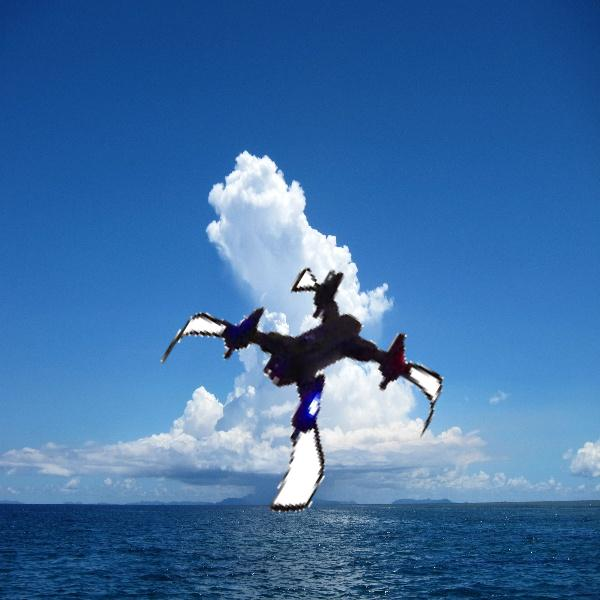drone: (152, 253, 433, 534)
